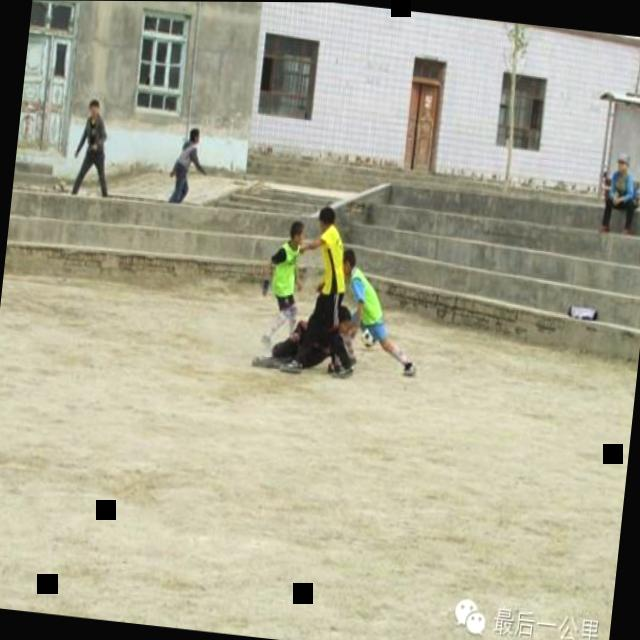Fall-Detected: (252, 289, 362, 387)
